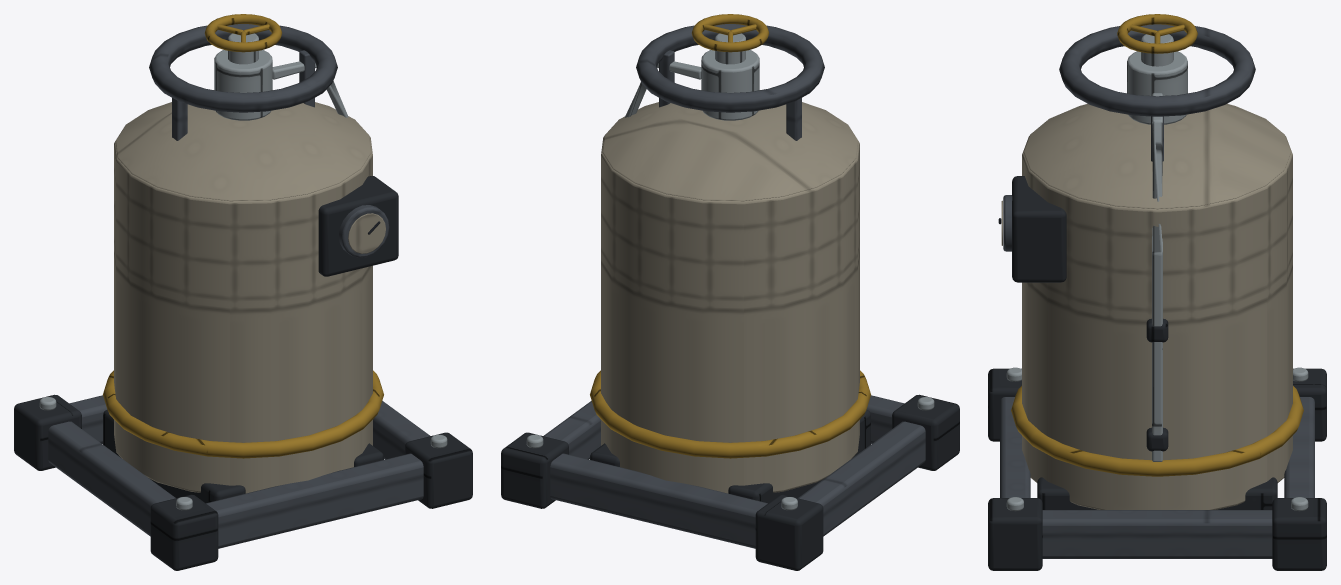
File: cargo-cryogenic-dewar_lod0.glb
The picture shows the model from 3 angles, left to right: view 1: azimuth 30°, elevation 25°; view 2: azimuth 150°, elevation 25°; view 3: azimuth 270°, elevation 25°; orthographic projection. The views are drawn at different scales.
Parts seen in each view (by area): view 1: LOD0_Ceramic, LOD0_Mechanical, LOD0_Armor, LOD0_Livery, LOD0_BrushedMetal; view 2: LOD0_Ceramic, LOD0_Mechanical, LOD0_Armor, LOD0_Livery, LOD0_BrushedMetal; view 3: LOD0_Ceramic, LOD0_Mechanical, LOD0_Armor, LOD0_Livery, LOD0_BrushedMetal.
Boxes of the visible parts, <box> form: LOD0_Ceramic: <box>114,102,385,493</box>; LOD0_Mechanical: <box>48,24,430,548</box>; LOD0_Armor: <box>14,176,472,570</box>; LOD0_Livery: <box>103,14,383,458</box>; LOD0_BrushedMetal: <box>39,33,447,510</box>; LOD0_Ceramic: <box>601,102,859,493</box>; LOD0_Mechanical: <box>543,24,925,548</box>; LOD0_Armor: <box>501,394,959,570</box>; LOD0_Livery: <box>590,14,870,458</box>; LOD0_BrushedMetal: <box>526,33,934,510</box>; LOD0_Ceramic: <box>1001,103,1292,509</box>; LOD0_Mechanical: <box>1000,24,1314,558</box>; LOD0_Armor: <box>988,176,1326,570</box>; LOD0_Livery: <box>1011,14,1303,476</box>; LOD0_BrushedMetal: <box>1006,34,1308,511</box>.
Size of the model in its own units: 1.65 by 2.36 by 1.55.
6 materials, 6 textured.
